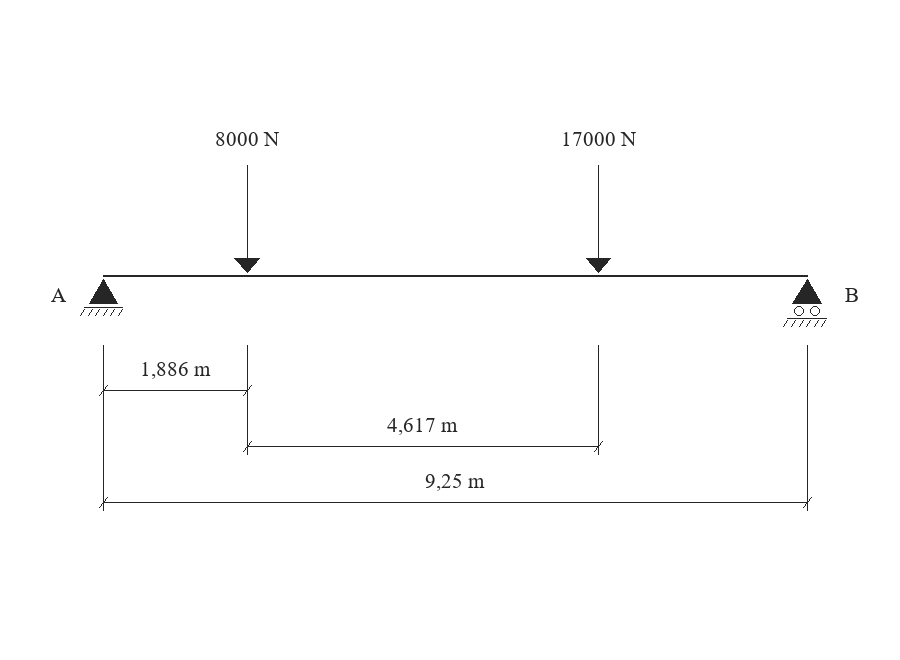pin_support: (80, 279, 123, 316)
point_load: (234, 165, 260, 273), (586, 165, 611, 273)
roller_support: (783, 279, 827, 327)
